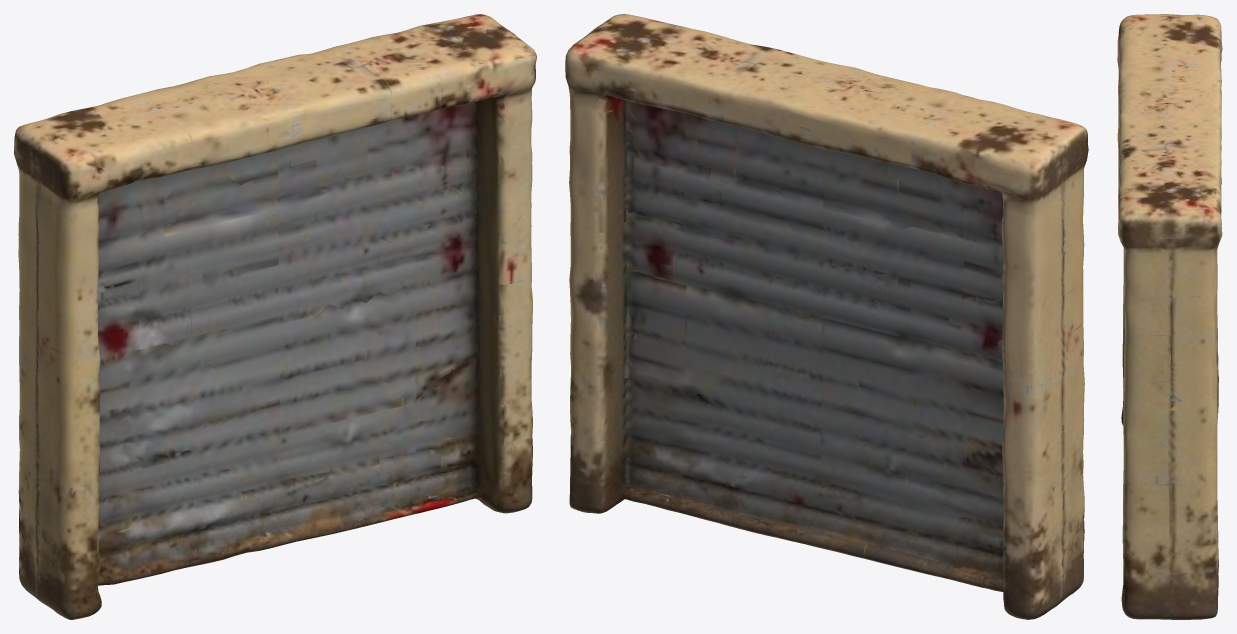
Rendered from 08Door2.fbx.
3 renders of one model, left to right at view 1: azimuth 30°, elevation 25°; view 2: azimuth 150°, elevation 25°; view 3: azimuth 270°, elevation 25°, orthographic. The views are drawn at different scales.
Visible parts, largest first — view 1: Mesh_0; view 2: Mesh_0; view 3: Mesh_0.
Part boxes in pixels (x1,y1,x2,y2): Mesh_0: (14, 14, 536, 619); Mesh_0: (565, 14, 1088, 619); Mesh_0: (1117, 14, 1222, 619).
Bounding box in the file's own units: 191 × 179 × 41.5.
